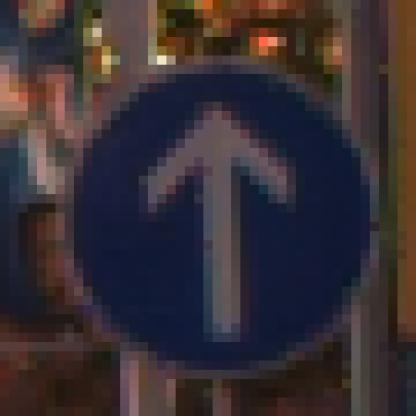AheadOnly: (57, 57, 362, 362)
